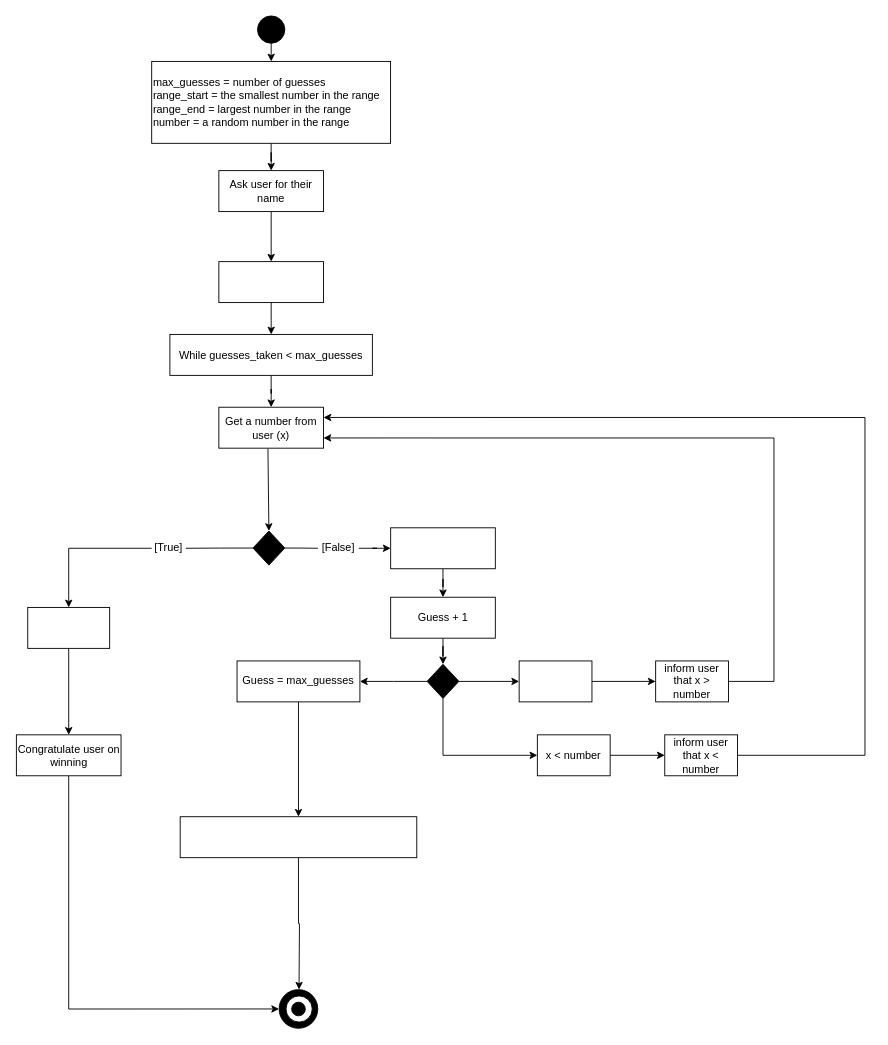
Image size: 888x1045. Some labels were removed from this diagram. Here are the shapes that lost their labels. From the top down, the box of each, then its label:
(218, 261, 324, 303): Tell user to guess a number in range
(390, 527, 495, 569): number != x
(27, 607, 110, 648): number == x
(518, 660, 592, 702): x > number
(179, 816, 417, 858): game over Tell user what was the number
